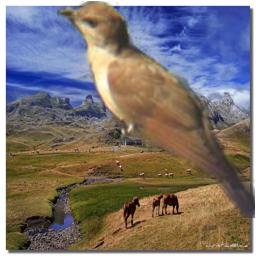Cuckoo: (57, 1, 255, 218)
